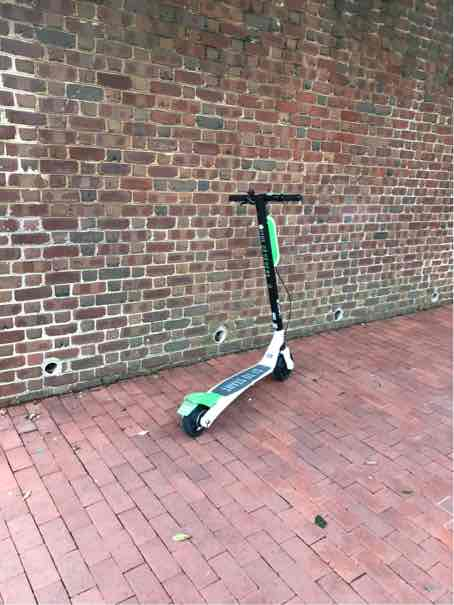scooter: (172, 182, 312, 444)
